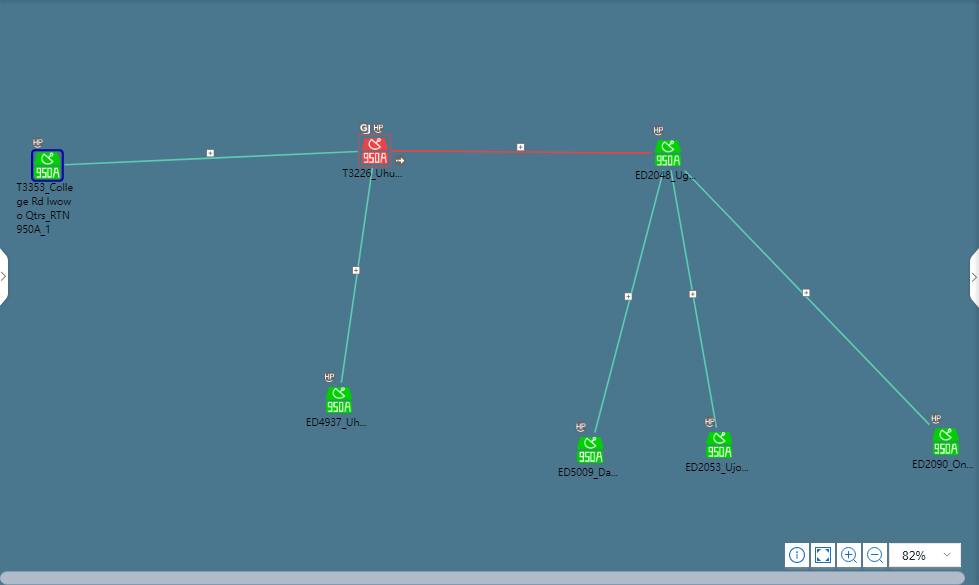Link_Blue: (690, 173, 929, 424), (590, 167, 668, 435), (670, 184, 714, 424), (340, 167, 375, 371), (64, 149, 350, 172)
Link_Red: (450, 149, 652, 159)
RTN_Green: (34, 149, 61, 184), (933, 430, 962, 459), (327, 387, 356, 416), (578, 436, 607, 465), (707, 430, 736, 459), (652, 143, 679, 172)
RTN_Red: (358, 136, 393, 164)
